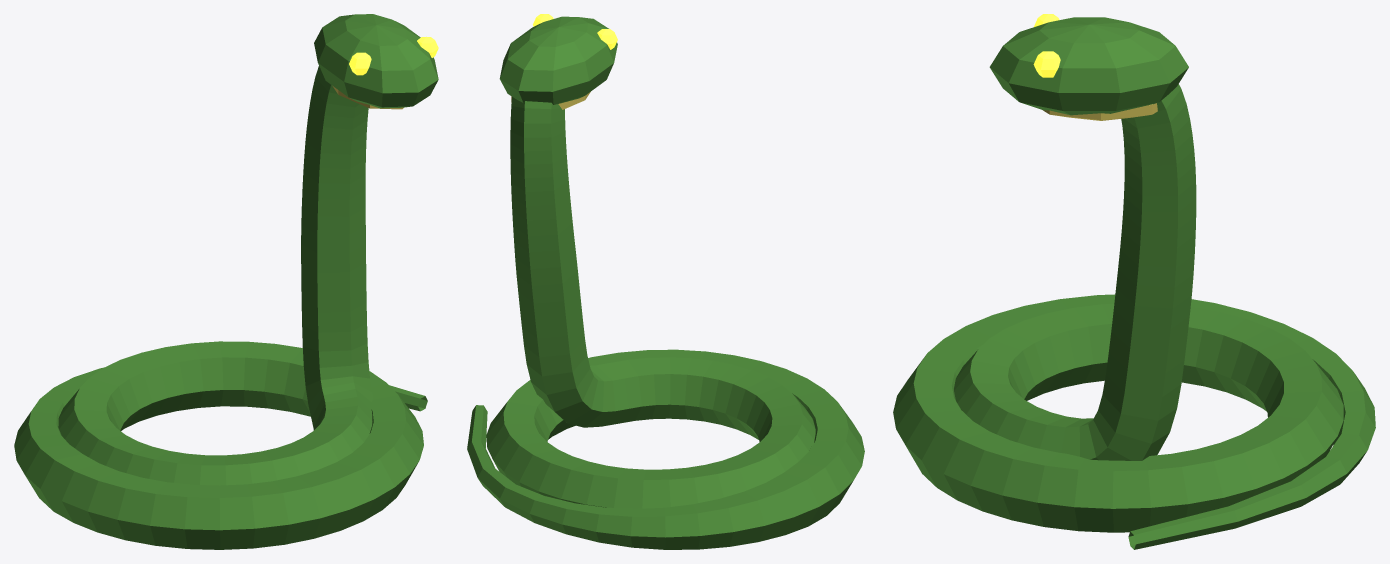
Rendered from serpent.glb.
3 views of the same model, side by side, from view 1: azimuth 30°, elevation 25°; view 2: azimuth 150°, elevation 25°; view 3: azimuth 270°, elevation 25° (orthographic). The views are drawn at different scales.
Parts seen in each view (by area): view 1: Serpent; view 2: Serpent; view 3: Serpent.
Part boxes in pixels (bbox=[...]): Serpent: bbox=[14, 14, 438, 549]; Serpent: bbox=[467, 14, 864, 549]; Serpent: bbox=[893, 14, 1375, 549].
Size of the model in its own units: 0.8951 by 0.9448 by 0.8224.
